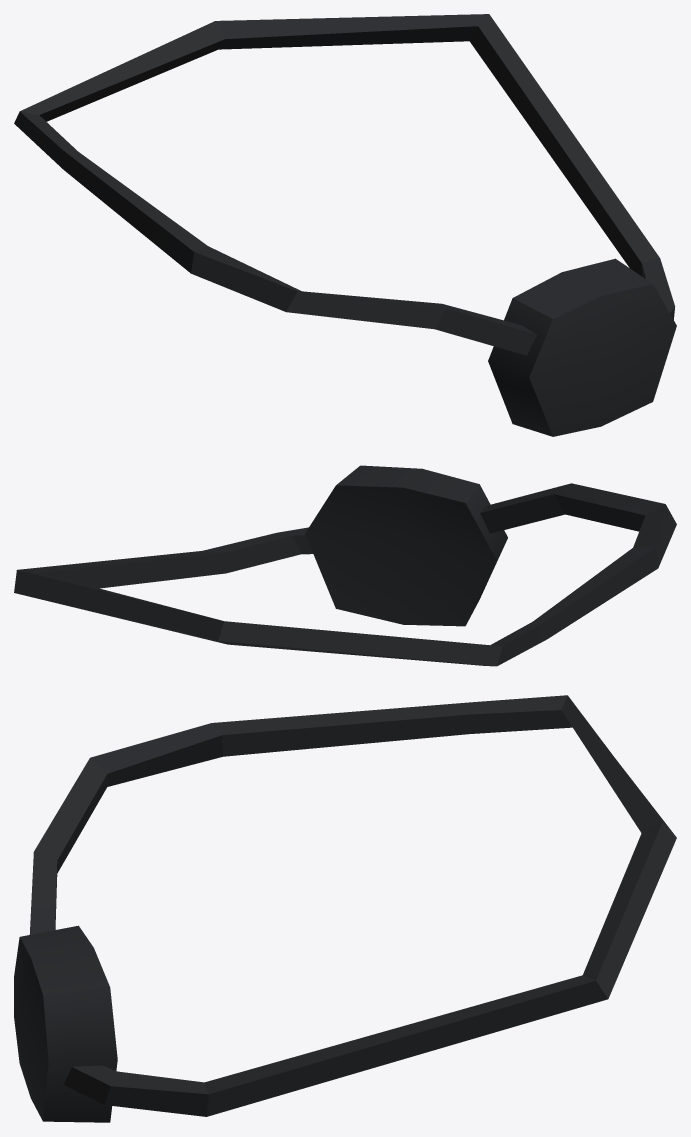
The model's file is SM_Chr_Attach_Eyepatch_01.fbx.
3 renders of one model, top to bottom at view 1: azimuth 30°, elevation 25°; view 2: azimuth 150°, elevation 25°; view 3: azimuth 270°, elevation 25°, orthographic. The views are drawn at different scales.
Visible parts, largest first — view 1: SM_Chr_Attach_Eyepatch_01; view 2: SM_Chr_Attach_Eyepatch_01; view 3: SM_Chr_Attach_Eyepatch_01.
Boxes of the visible parts, x1=… form: SM_Chr_Attach_Eyepatch_01: x1=14, y1=14, x2=676, y2=436; SM_Chr_Attach_Eyepatch_01: x1=14, y1=465, x2=676, y2=666; SM_Chr_Attach_Eyepatch_01: x1=14, y1=695, x2=676, y2=1122.
Bounding box in the file's own units: 23.46 × 10.1 × 25.91.
